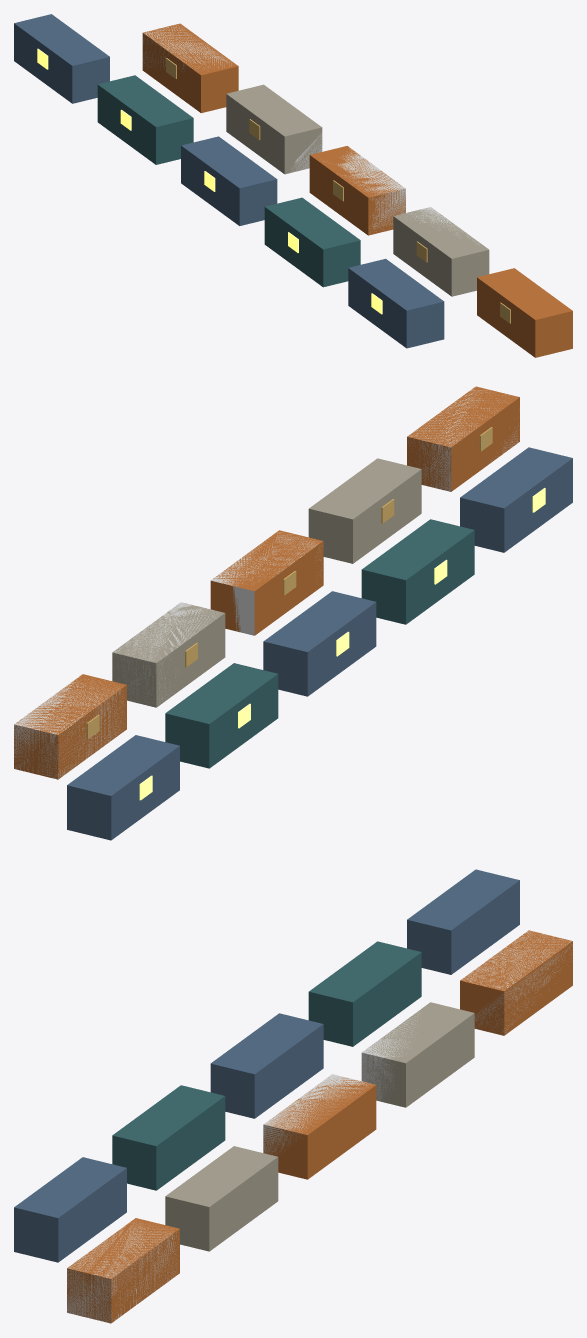
Rendered from theme-outpost-1b.glb.
3 renders of one model, top to bottom at view 1: azimuth 30°, elevation 25°; view 2: azimuth 150°, elevation 25°; view 3: azimuth 330°, elevation 25°, orthographic. The views are drawn at different scales.
Visible parts, largest first — view 1: 00_#55708a, 02_#c9793a, 04_#3f6f73, 05_#b0aa98, solid.005, solid.001, 01_#e8c070_noshadow, 03_#e8c070_noshadow_r320, solid.007; view 2: 00_#55708a, 02_#c9793a, 04_#3f6f73, 05_#b0aa98, solid.001, solid.005, solid.003, solid.009, 01_#e8c070_noshadow, 03_#e8c070_noshadow_r320; view 3: 00_#55708a, 02_#c9793a, 04_#3f6f73, 05_#b0aa98, solid.009, solid.005, solid.001, solid.003.
Boxes of the visible parts, x1,y1,x2,y2 form: 00_#55708a: (14,14,444,348); 02_#c9793a: (142,23,572,357); 04_#3f6f73: (97,75,360,287); 05_#b0aa98: (226,84,489,296); solid.005: (323,148,405,233); solid.001: (142,25,231,71); 01_#e8c070_noshadow: (37,48,382,314); 03_#e8c070_noshadow_r320: (166,58,510,323); solid.007: (405,207,479,245); 00_#55708a: (67,447,572,840); 02_#c9793a: (14,386,519,779); 04_#3f6f73: (165,519,474,768); 05_#b0aa98: (112,458,421,707); solid.001: (14,677,125,779); solid.005: (211,532,322,635); solid.003: (112,602,218,706); solid.009: (408,386,519,491); 01_#e8c070_noshadow: (139,488,545,800); 03_#e8c070_noshadow_r320: (86,427,492,739); 00_#55708a: (14,869,519,1262); 02_#c9793a: (67,930,572,1323); 04_#3f6f73: (112,941,421,1190); 05_#b0aa98: (165,1002,474,1251); solid.009: (67,1221,178,1323); solid.005: (263,1074,370,1155); solid.001: (462,931,572,1035); solid.003: (361,1009,420,1101).
Size of the model in its own units: 8.67 by 2.5 by 52.
